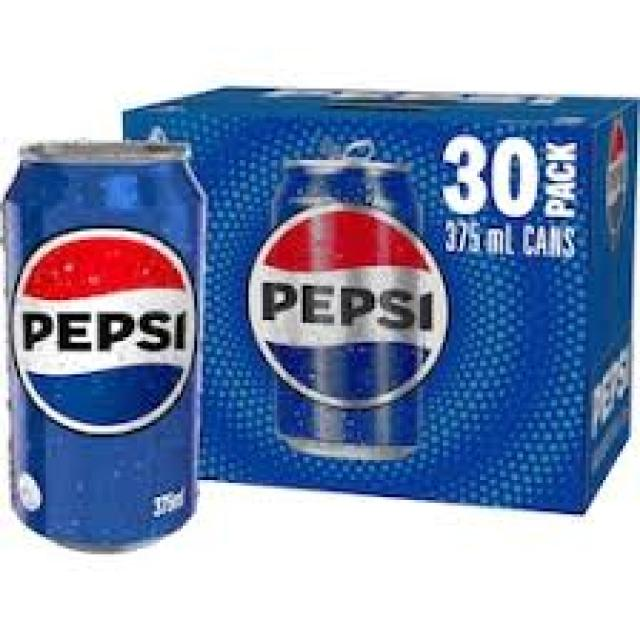Cans: (3, 137, 206, 554)
